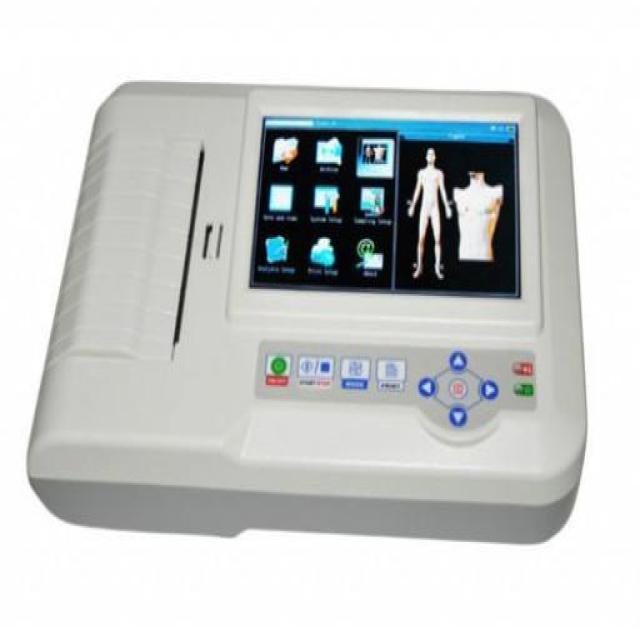Monitor: (25, 78, 589, 544)
